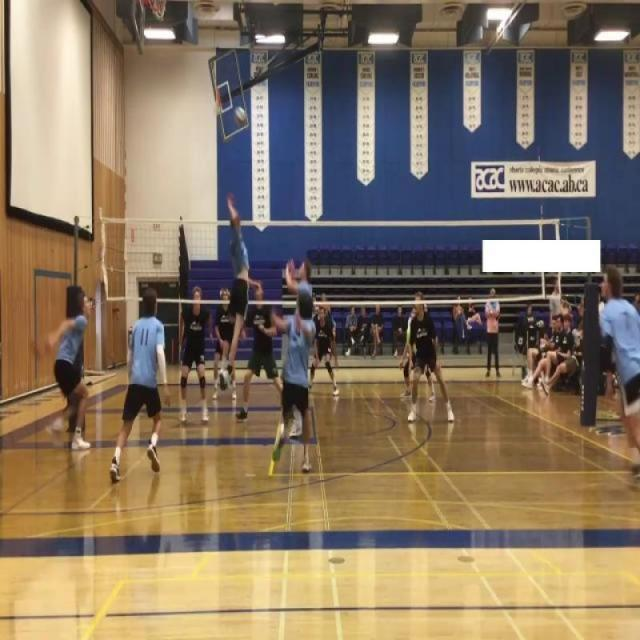volleyball: (234, 106, 246, 125), (540, 342, 545, 352), (539, 320, 545, 328)
